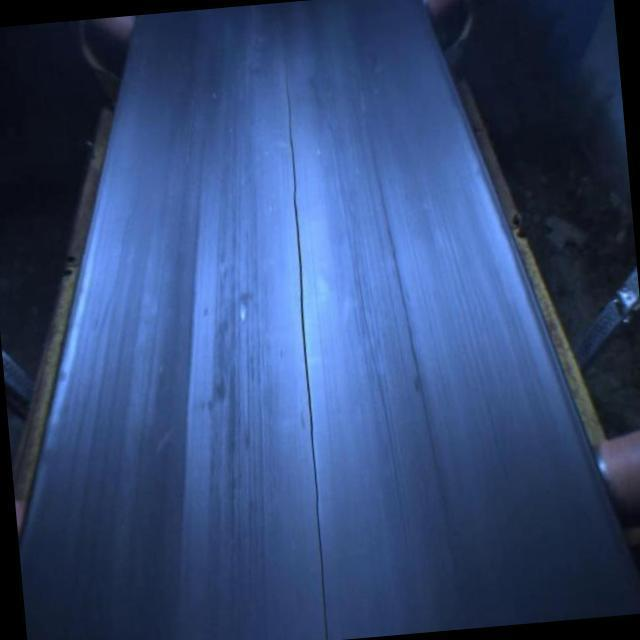Tear: (275, 50, 341, 640)
